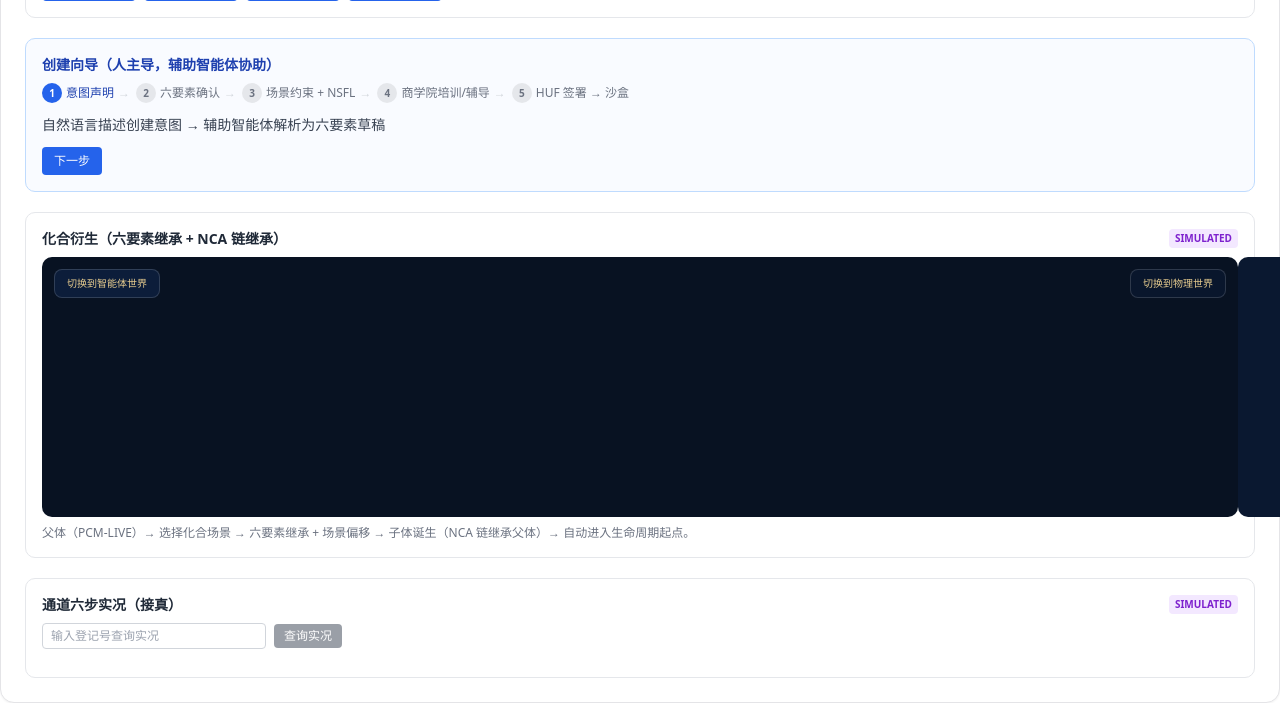
Test case: 批 4 块一 · 通道六步实况接真（/studio） › 实况呈现：已达/未达如实标注（未达步 ⛔ 不显示为已达）
(page scrolled)
Type "TEST-REG-1" into the field with test id "channel-gate-input". click: (154, 636)
box: [42, 622, 266, 648]
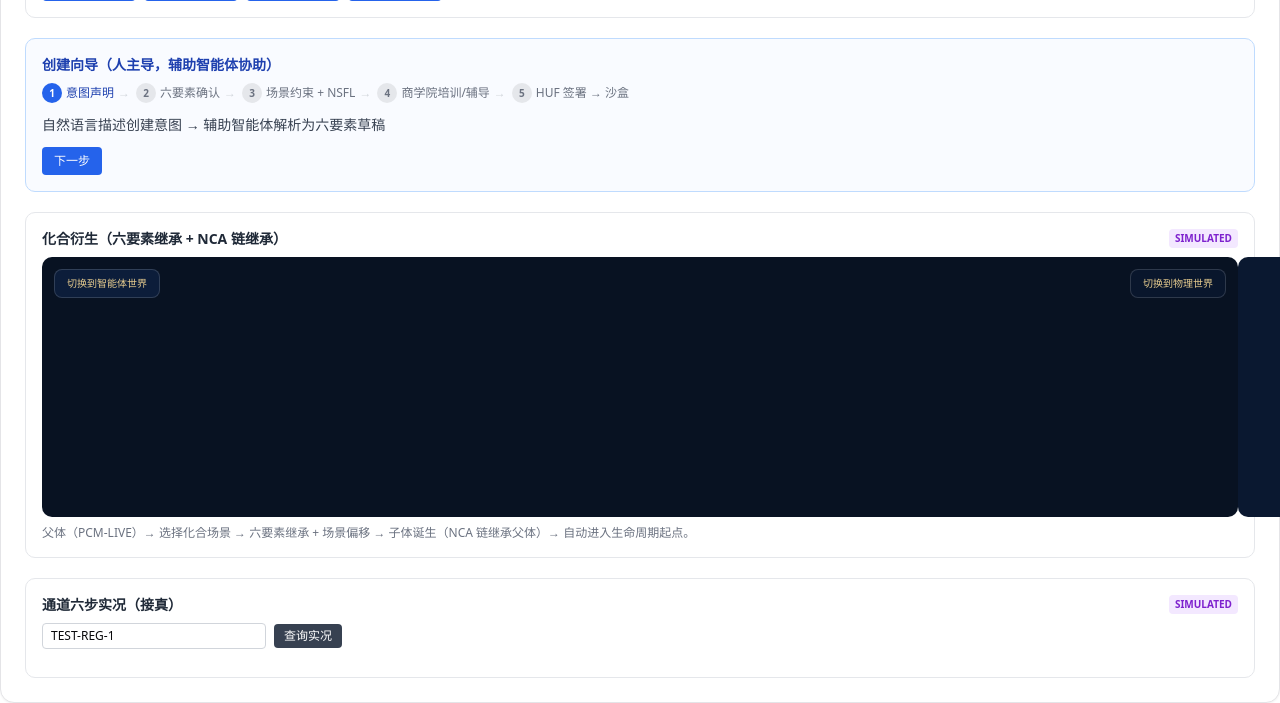
Click the button with test id "channel-gate-query". click: (308, 636)
box: [274, 624, 342, 648]
(page scrolled)
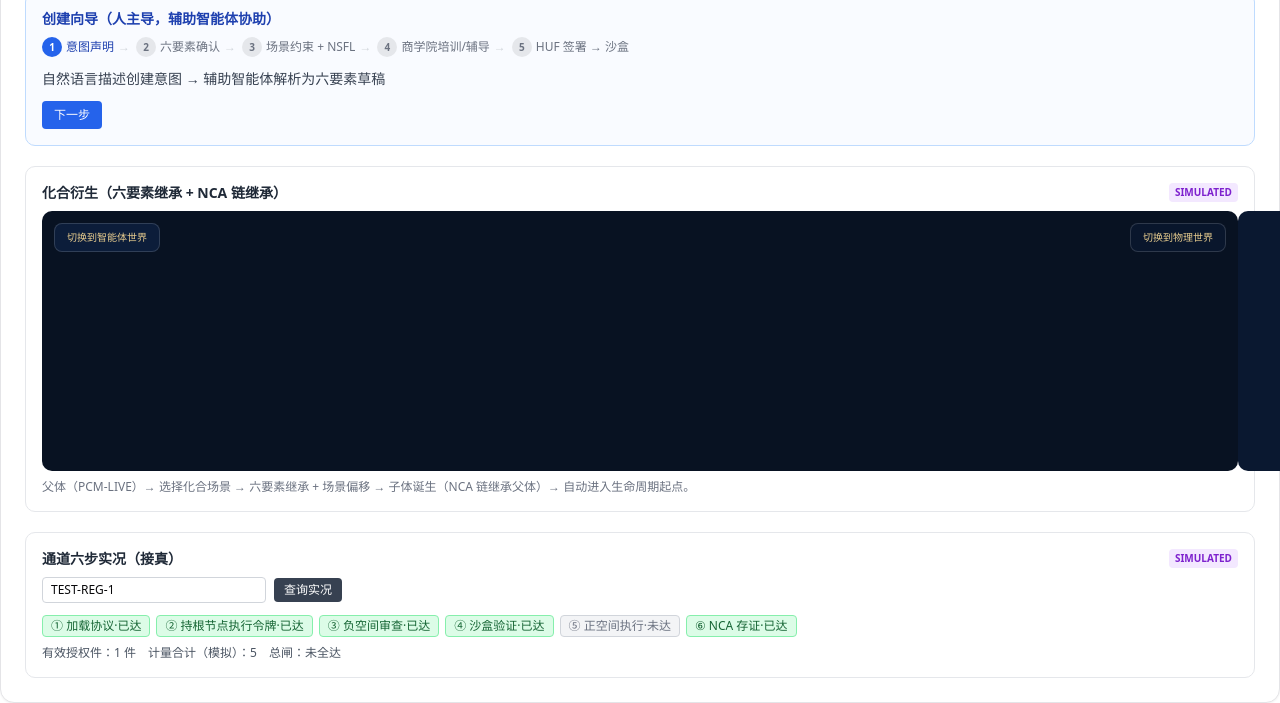
Expected: the element with test id "channel-gate-steps" is shown, [42, 614, 797, 660]
Expected: the text with test id "channel-gate-step-protocol-load" shows "已达", [117, 616, 141, 634]
Expected: the text with test id "channel-gate-step-execute" shows "未达", [647, 616, 671, 634]
